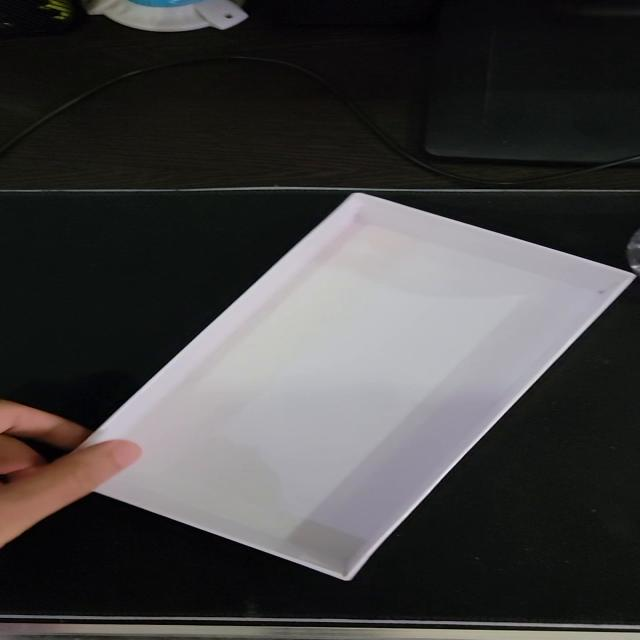Organik: (42, 183, 640, 588)
